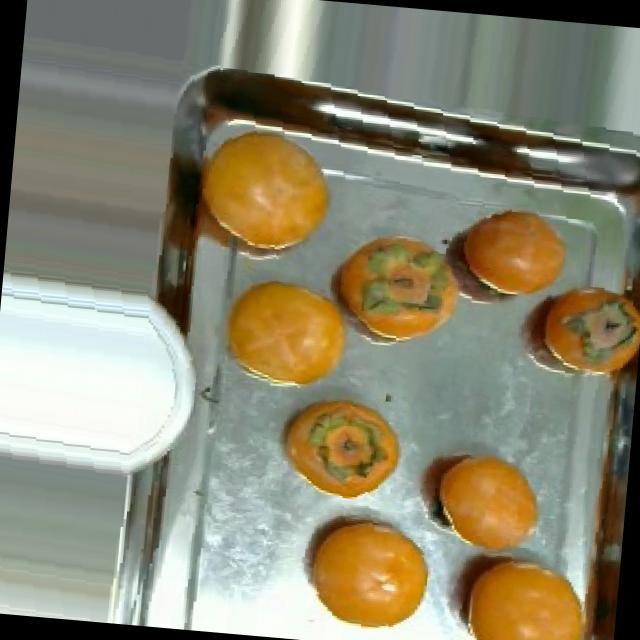Fruit: (308, 214, 480, 366), (184, 119, 351, 268), (282, 496, 452, 640), (204, 260, 371, 406), (399, 430, 561, 565), (262, 380, 418, 514), (420, 532, 606, 640), (501, 266, 640, 393), (444, 194, 589, 312)
